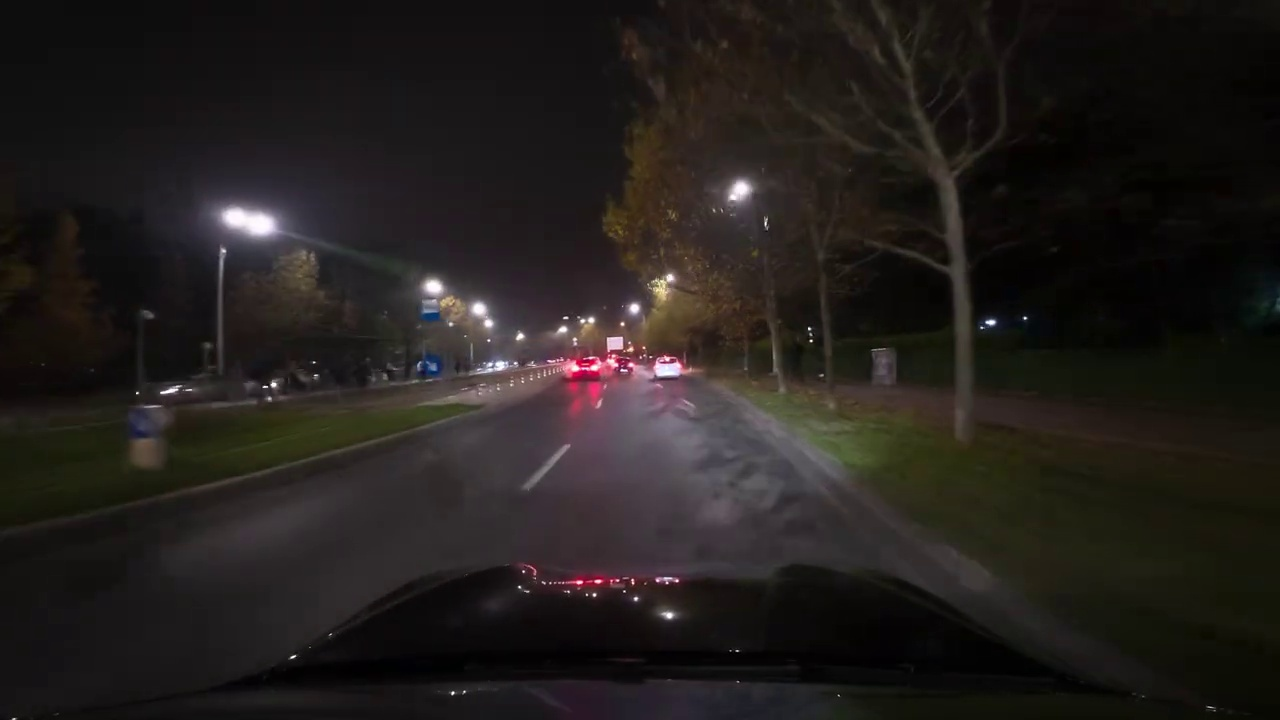acesa: (223, 205, 275, 238), (724, 177, 753, 205), (420, 277, 446, 300), (652, 275, 674, 302)
